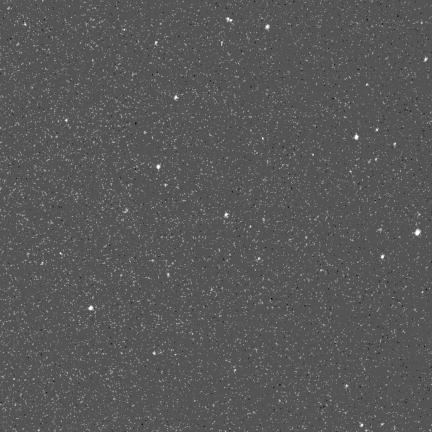blob: (415, 229, 421, 236), (354, 135, 359, 140), (88, 306, 94, 310), (225, 213, 229, 218), (424, 57, 428, 62), (157, 165, 161, 170), (153, 351, 157, 356), (174, 95, 178, 99), (381, 254, 384, 259), (393, 143, 396, 147), (376, 128, 379, 132), (155, 41, 158, 45), (266, 25, 269, 29), (366, 84, 369, 87), (65, 119, 67, 122)
